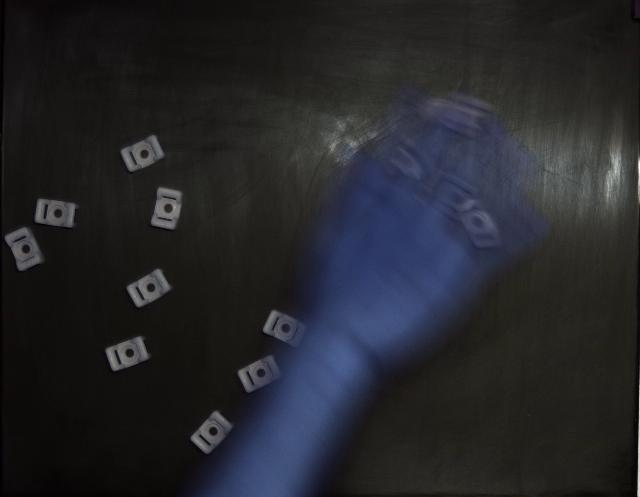first_side: (190, 411, 234, 455), (126, 269, 172, 308), (5, 228, 45, 271), (262, 310, 306, 348), (120, 135, 165, 172), (238, 355, 281, 392), (105, 336, 150, 371), (35, 199, 79, 229), (151, 188, 182, 230)
